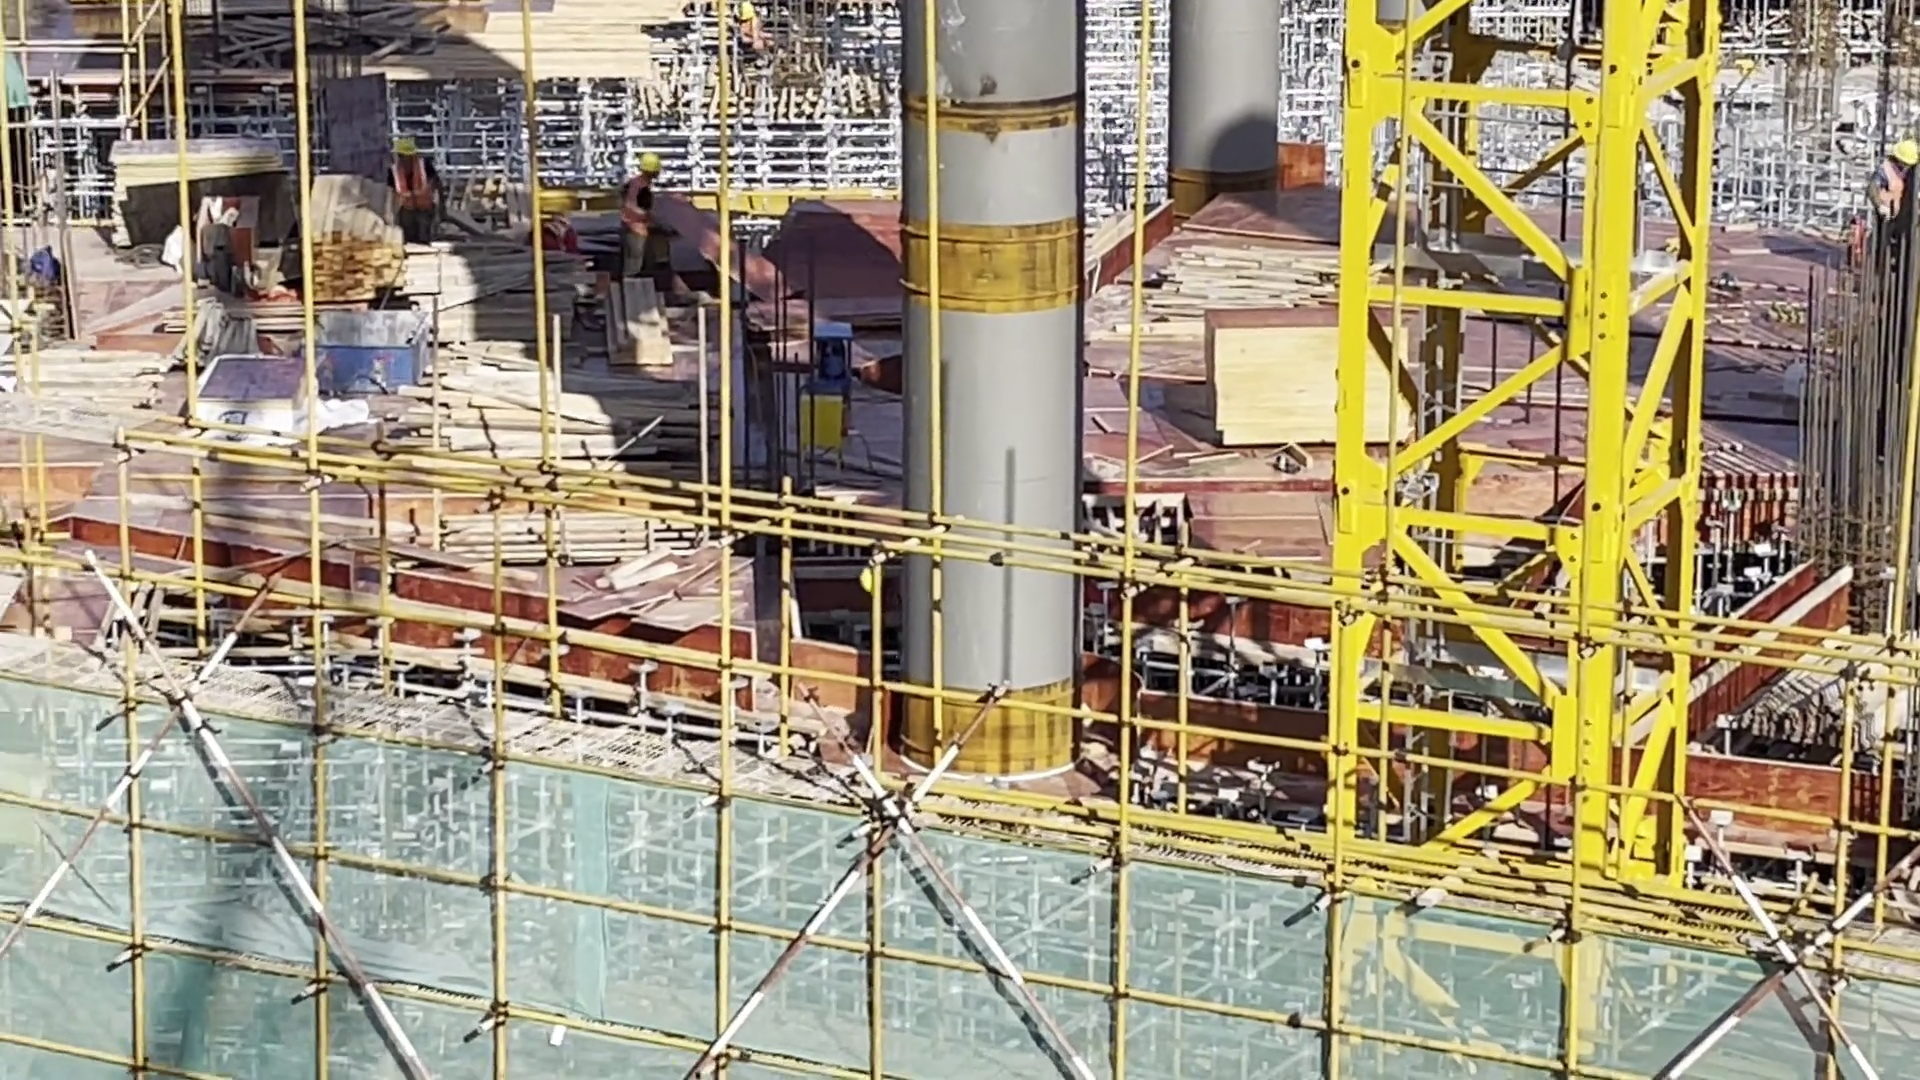board: (1200, 308, 1423, 456), (97, 115, 287, 245)
helmet: (1891, 139, 1920, 173), (632, 152, 663, 180), (393, 136, 419, 160)
hopper: (318, 309, 422, 401)
person: (616, 151, 669, 299), (390, 127, 444, 252), (1875, 143, 1920, 279), (522, 198, 585, 263)
vest: (391, 155, 444, 219), (622, 175, 657, 245), (537, 213, 572, 247)
wood: (425, 345, 702, 465), (308, 169, 402, 310), (604, 273, 677, 370)
